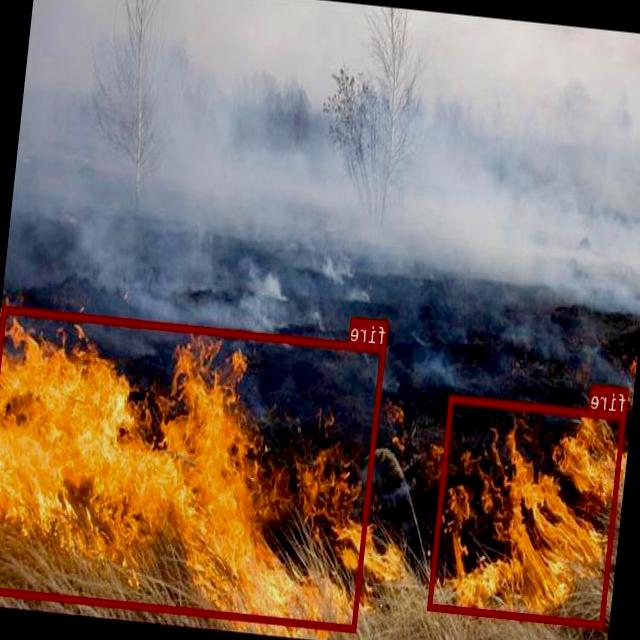fire: (0, 303, 386, 631), (428, 393, 627, 627)
